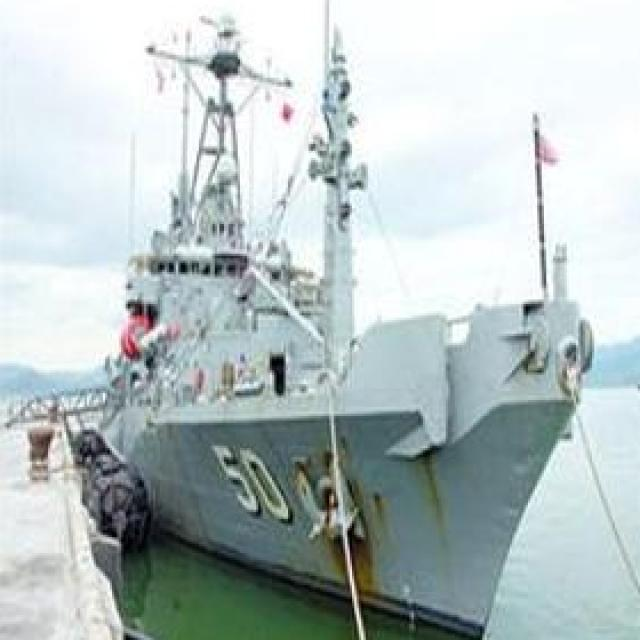navalvessels: (96, 14, 591, 632)
